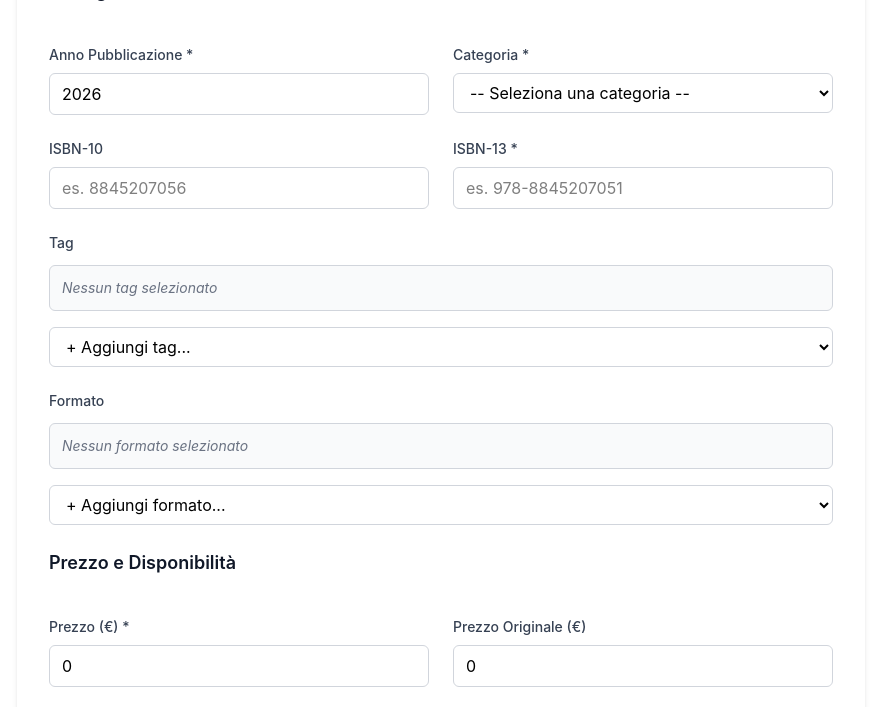
Test case: BookForm › hides dropdown when all tags are selected
(page scrolled)
# Aggiungi tutti i tag disponibili
Select "Fantasy" in the dropdown showing "+ Aggiungi tag..." below "Nessun tag selezionato" at {"x": 441, "y": 347}, box [49,327,833,367]
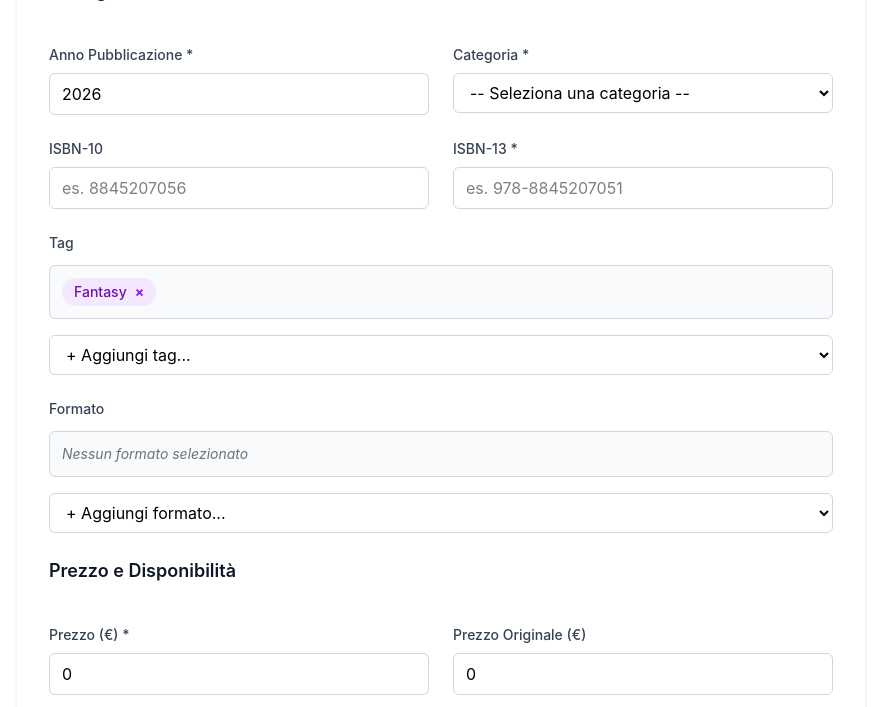
expect the text "Fantasy" is shown: met, box [74,283,127,300]
Select "Avventura" in the dropdown showing "+ Aggiungi tag..." below "Fantasy" at {"x": 441, "y": 355}, box [49,335,833,375]
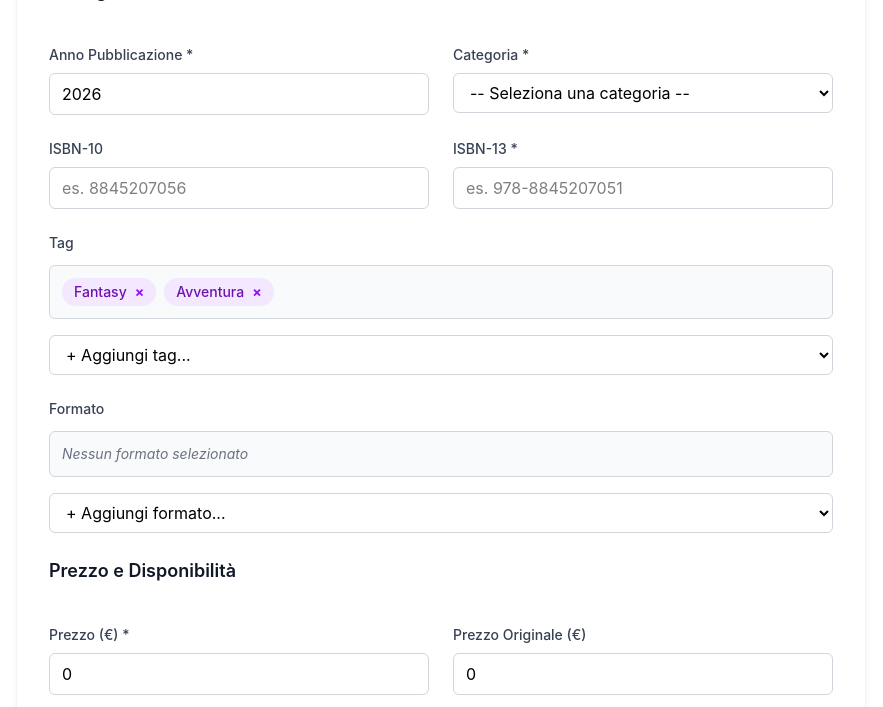
expect the text "Avventura" is shown: met, box [176,283,244,300]
Select "Mistero" in the dropdown showing "+ Aggiungi tag..." below "Fantasy" at {"x": 441, "y": 355}, box [49,335,833,375]
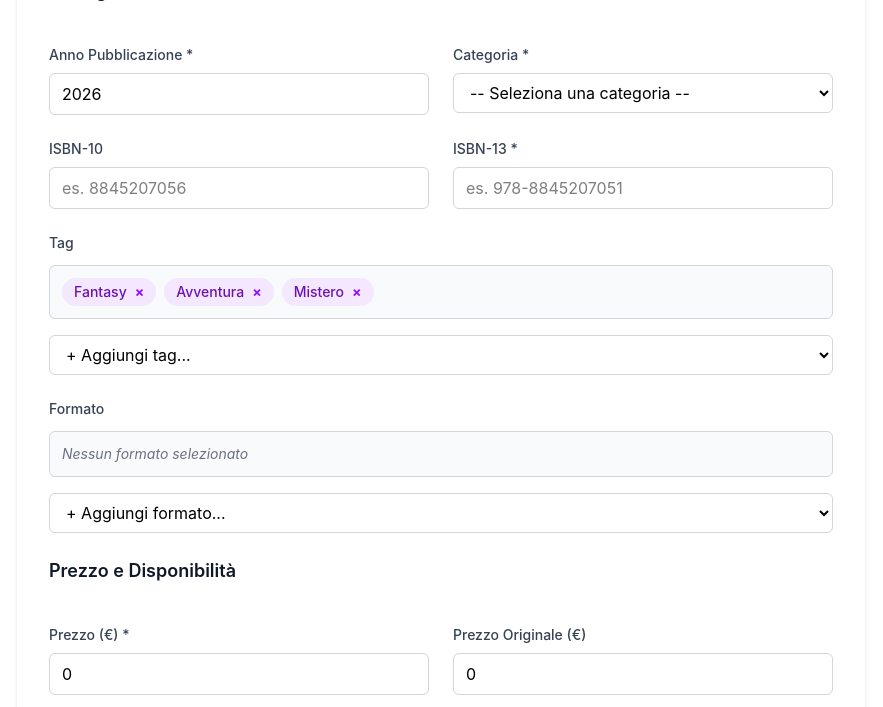
expect the text "Mistero" is shown: met, box [294,283,344,300]
Select "Sci-Fi" in the dropdown showing "+ Aggiungi tag..." below "Fantasy" at {"x": 441, "y": 355}, box [49,335,833,375]
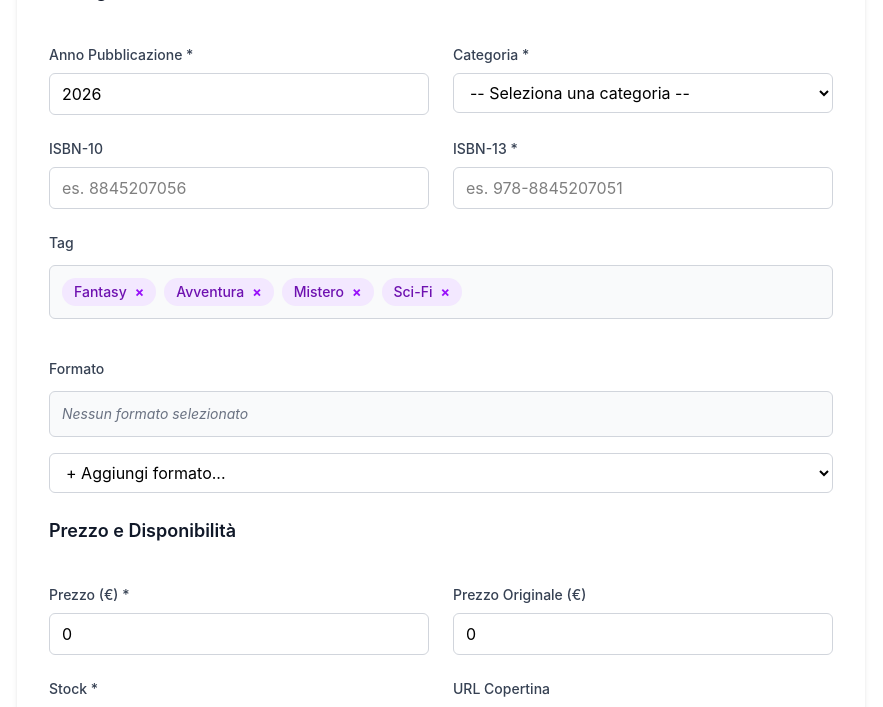
expect the field showing "+ Aggiungi tag..." is not shown: met
expect the text "Sci-Fi" is shown: met, box [394,283,432,300]
